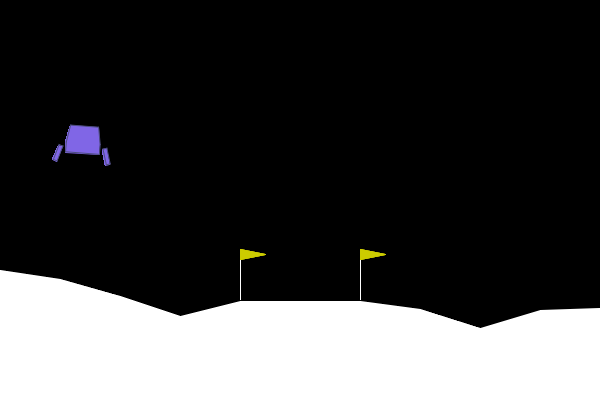lander: (51, 122, 114, 167)
